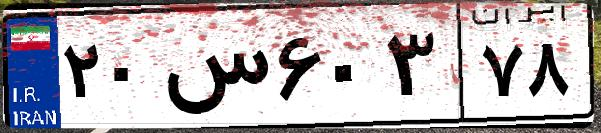0: (330, 28, 385, 110), (110, 28, 158, 98)
2: (57, 26, 110, 100)
3: (385, 28, 445, 110)
6: (270, 28, 330, 110)
7: (475, 38, 525, 113)
8: (525, 38, 570, 115)
س: (158, 20, 270, 120)
